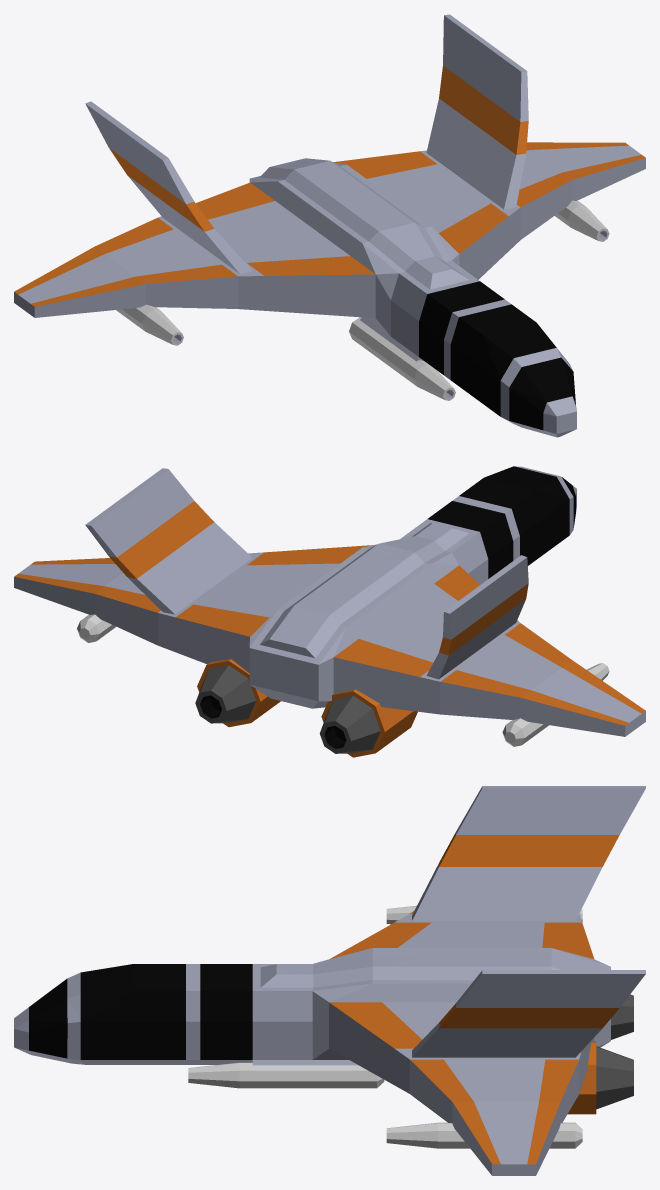
Rendered from Spaceship4_4.fbx.
3 views of the same model, one above another, from view 1: azimuth 30°, elevation 25°; view 2: azimuth 150°, elevation 25°; view 3: azimuth 270°, elevation 25° (orthographic). The views are drawn at different scales.
Parts seen in each view (by area): view 1: Spaceship4_4; view 2: Spaceship4_4; view 3: Spaceship4_4.
Boxes of the visible parts, <box> form: Spaceship4_4: <box>14,14,645,437</box>; Spaceship4_4: <box>14,466,645,757</box>; Spaceship4_4: <box>14,786,645,1175</box>.
Bounding box in the file's own units: 1061 × 317 × 900.
